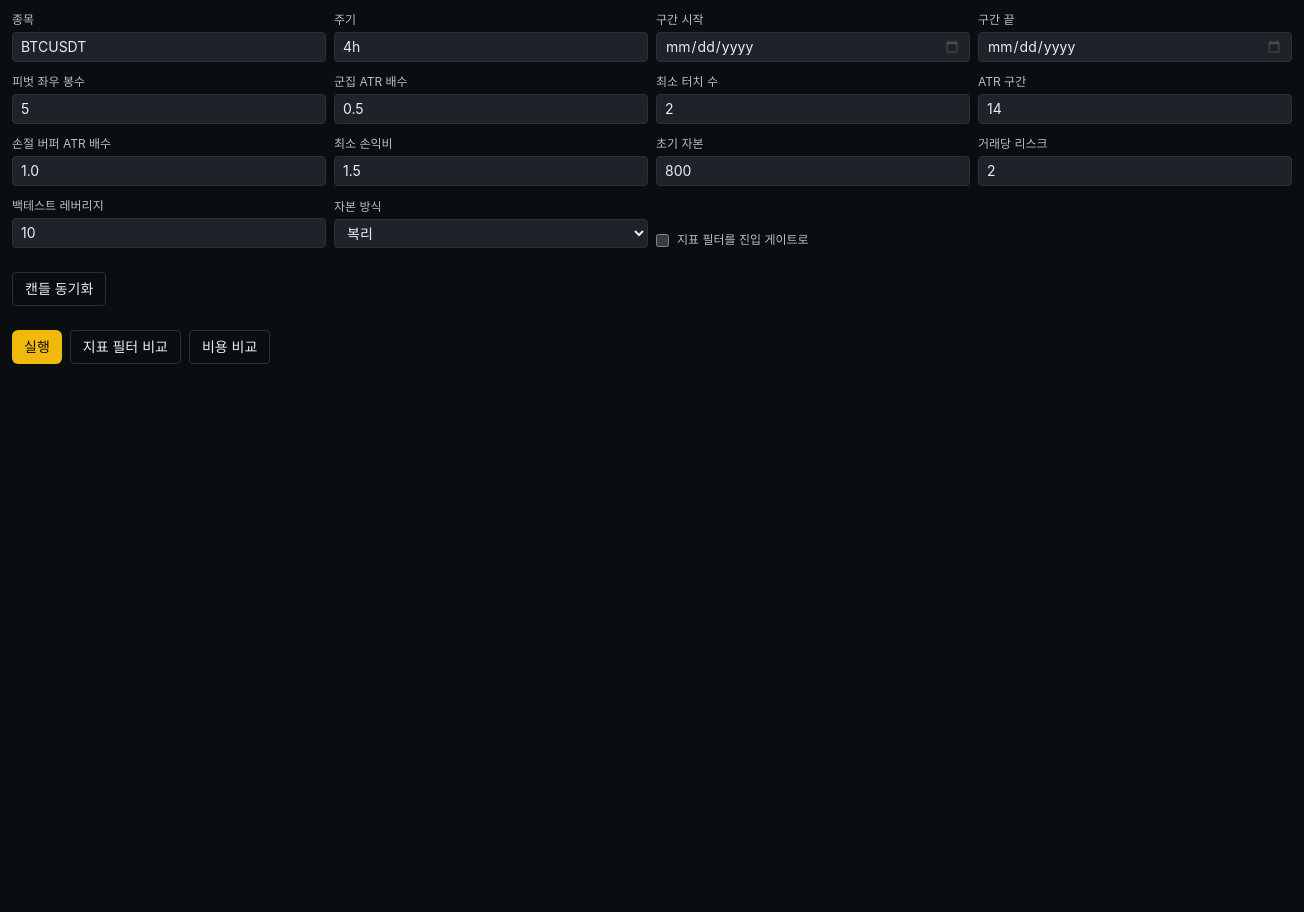
Scenario: 백테스트 › 실행하면 요약과 거래 목록과 자산 곡선이 나온다
Click the button "실행" at {"x": 37, "y": 347}, box [12, 330, 62, 364]
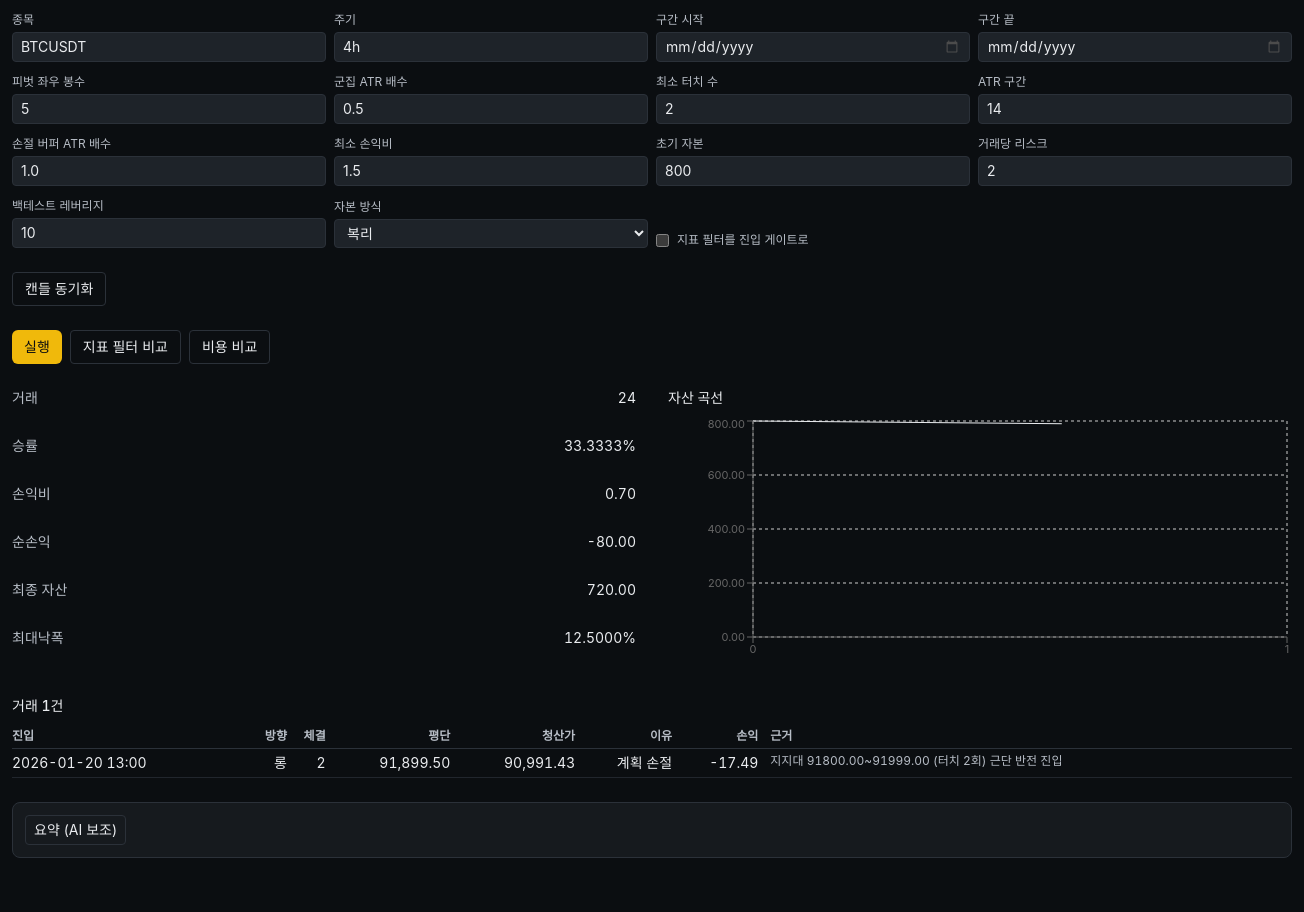
Expected: the element named "백테스트 결과" is shown, [12, 388, 1292, 858]
Expected: the text "거래 1건" is shown, [12, 697, 64, 714]
Expected: the cell "지지대 91800.00~91999.00 (터치 2회) 근단 반전 진입" is shown, [758, 748, 1292, 778]
